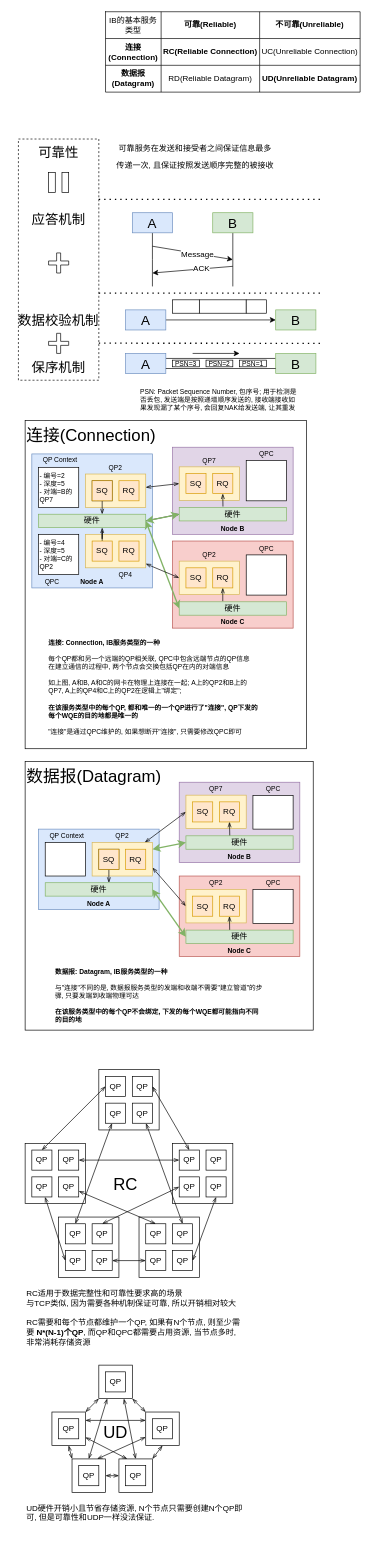
The diagram is 372 pixels wide and 1544 high, and some of its shapes have lost their labels. The centre of each missing label's shape, as x and y in pixels:
- 编号=2 - 深度=4: pixel 272 906
- 编号=2 - 深度=4 - 对端=A的QP4: pixel 266 574
- 编号=2 - 深度=5: pixel 65 859
- 编号=7 - 深度=3: pixel 272 812
- 编号=7 - 深度=3 - 对端=A的QP2: pixel 266 480
CRC: pixel 256 306
Header: pixel 185 306
Payload: pixel 222 306
